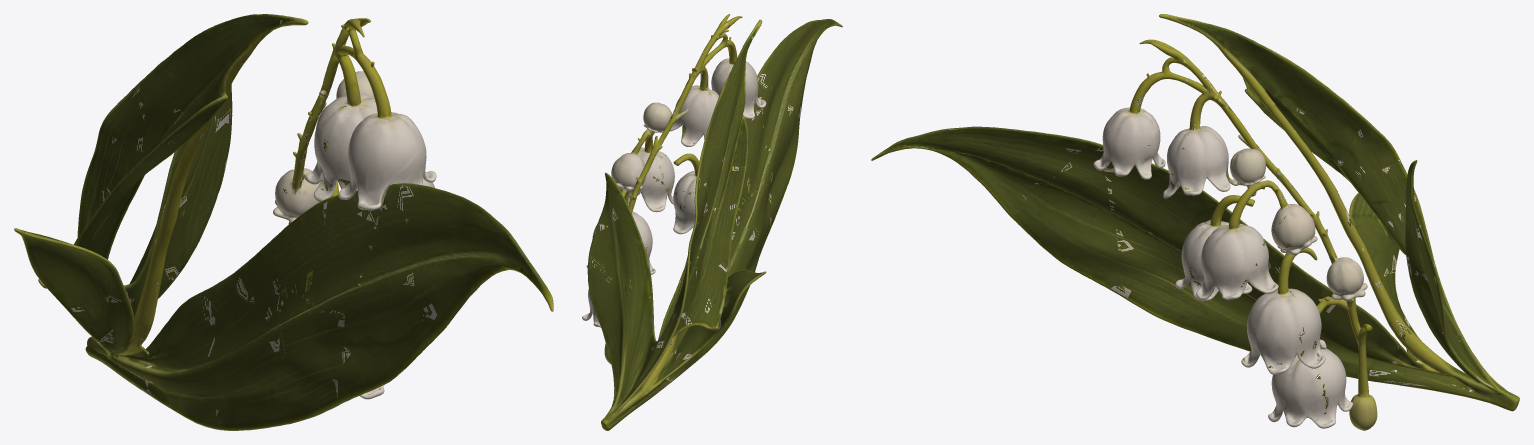
Rendered from lily.glb.
The picture shows the model from 3 angles, left to right: view 1: azimuth 30°, elevation 25°; view 2: azimuth 150°, elevation 25°; view 3: azimuth 270°, elevation 25°; orthographic projection. The views are drawn at different scales.
Visible parts, largest first — view 1: tripo_node_e7d2d518-c991-46f8-9375-d1cac3469ac8; view 2: tripo_node_e7d2d518-c991-46f8-9375-d1cac3469ac8; view 3: tripo_node_e7d2d518-c991-46f8-9375-d1cac3469ac8.
Boxes of the visible parts, x1=… form: tripo_node_e7d2d518-c991-46f8-9375-d1cac3469ac8: x1=14, y1=14, x2=553, y2=430; tripo_node_e7d2d518-c991-46f8-9375-d1cac3469ac8: x1=582, y1=14, x2=842, y2=430; tripo_node_e7d2d518-c991-46f8-9375-d1cac3469ac8: x1=871, y1=14, x2=1519, y2=430.
Bounding box in the file's own units: 0.4938 × 0.6929 × 1.05.
1 material, 1 textured.
